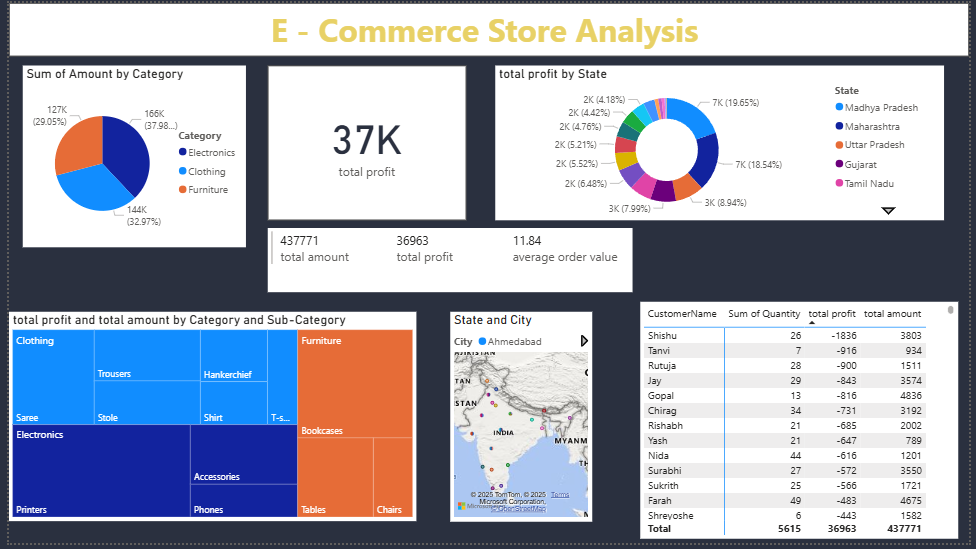

Layout of this report page (visuals, bound fields, positions):
{"tool":"powerbi","page":{"name":"Page 1","canvas":[1280,720],"ordinal":0},"visuals":[{"type":"multiRowCard","fields":{"Values":["Details.total amount","Details.total profit","Details.average order value"]},"box":[344.4,300,486.7,85.6],"z":0},{"type":"textbox","box":[0,0,1280,71.1],"z":1},{"type":"pieChart","fields":{"Category":["Details.Category"],"Y":["Details.Amount"]},"box":[17.5,82.5,297.5,242.5],"z":2},{"type":"pivotTable","fields":{"Rows":["Orders.CustomerName"],"Values":["Details.Quantity","Details.total profit","Details.total amount"]},"box":[841.2,398.8,423.8,316.2],"z":3},{"type":"map","fields":{"Category":["Orders.State"],"Series":["Orders.City"]},"box":[587.8,412.2,188.9,278.9],"z":4},{"type":"treemap","fields":{"Group":["Details.Category"],"Details":["Details.Sub-Category"],"Values":["Details.total profit"]},"box":[0,412.2,543.3,278.9],"z":5},{"type":"card","fields":{"Values":["Details.total profit"]},"box":[345,82.5,265,206.2],"z":6},{"type":"donutChart","fields":{"Category":["Orders.State"],"Y":["Details.total profit"]},"box":[648.8,82.5,598.8,206.2],"z":7}]}

Visuals, with their boxes in screenshot pixels (x1, y1, x2, y2), scaled from the page's 1280x720 canvas onto the 976x549 screenshot:
multiRowCard - Details.total amount x Details.total profit: rect(263, 229, 634, 294)
textbox: rect(0, 0, 975, 54)
pieChart - Details.Category x Details.Amount: rect(13, 63, 240, 248)
pivotTable - Orders.CustomerName x Details.Quantity: rect(641, 304, 965, 545)
map - Orders.State x Orders.City: rect(448, 314, 592, 527)
treemap - Details.Category x Details.Sub-Category: rect(0, 314, 414, 527)
card - Details.total profit: rect(263, 63, 465, 220)
donutChart - Orders.State x Details.total profit: rect(495, 63, 951, 220)
